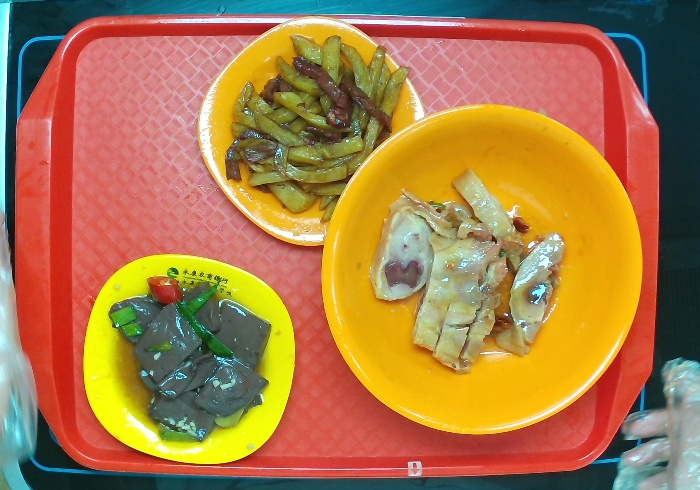YKMZ-Huang_Se_Fang_Die: (81, 251, 297, 464)
YKMZ-Ju_Se_Fang_Die: (197, 15, 427, 249)
YKMZ-Ju_Se_Tang_Wan: (319, 102, 645, 437)
